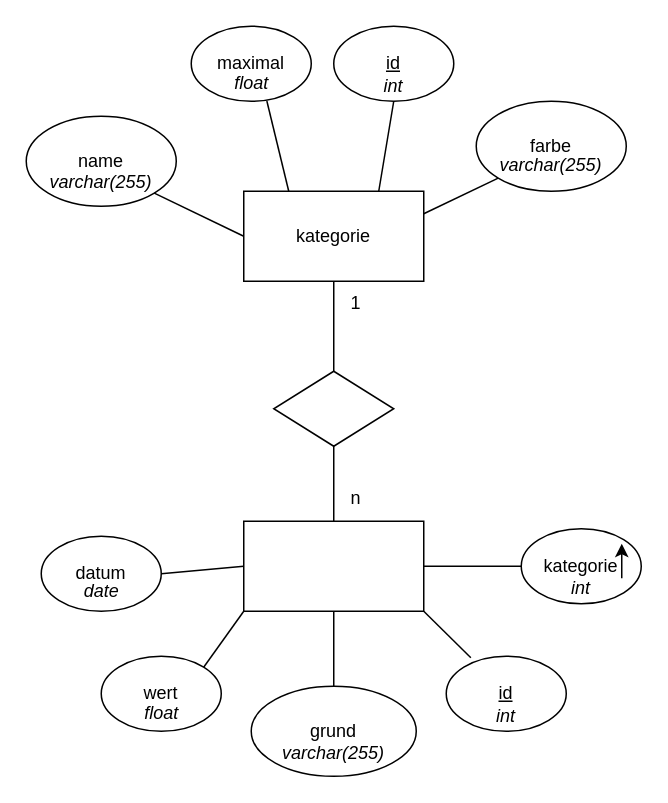
Image size: 668x803. Some labels were removed from this diagram. Each missing label, with the centre of its shape:
ausgaben: (333,565)
ist in: (333,408)
